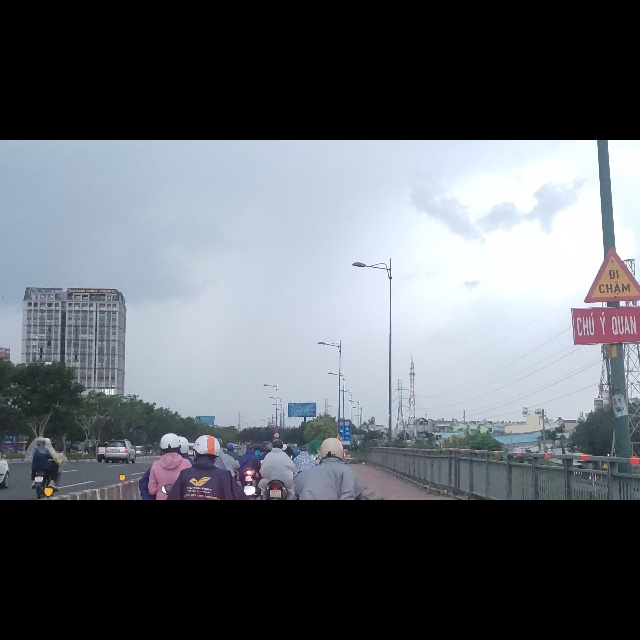bien_nguy_hiem: (583, 186, 640, 292)
